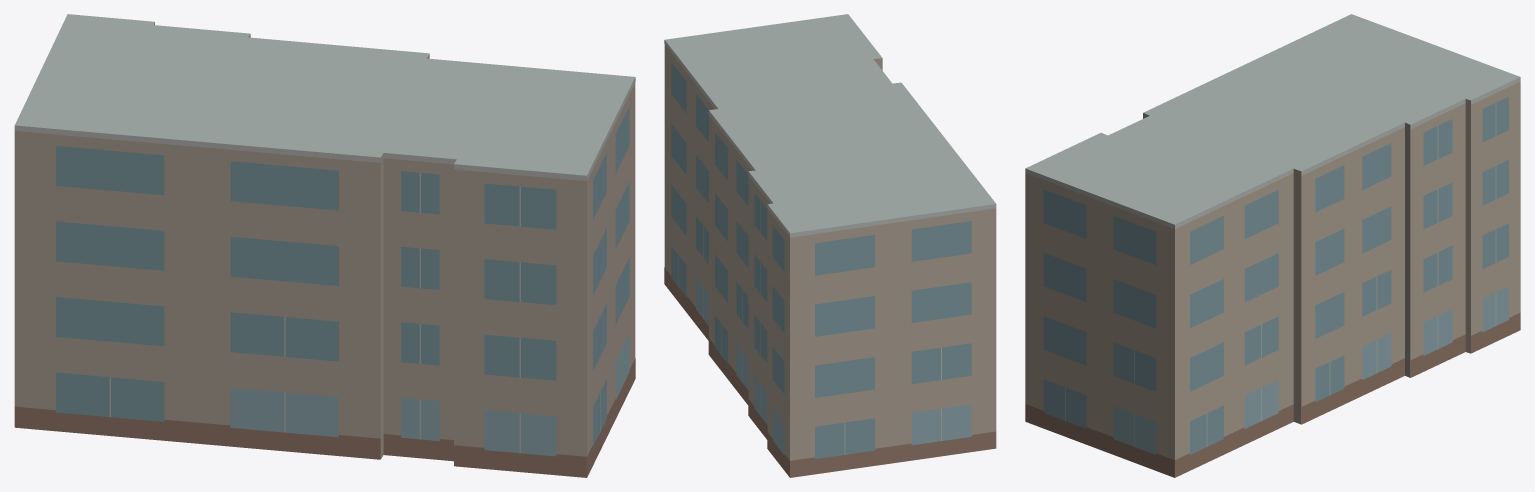
Rendered from survey-upis-32533113.glb.
3 renders of one model, left to right at view 1: azimuth 30°, elevation 25°; view 2: azimuth 150°, elevation 25°; view 3: azimuth 270°, elevation 25°, orthographic. The views are drawn at different scales.
Visible parts, largest first — view 1: survey-upis-32533113.tmp; view 2: survey-upis-32533113.tmp; view 3: survey-upis-32533113.tmp.
Part boxes in pixels (<box>): survey-upis-32533113.tmp: <box>14,14,635,477</box>; survey-upis-32533113.tmp: <box>664,14,996,477</box>; survey-upis-32533113.tmp: <box>1025,14,1520,477</box>.
Bounding box in the file's own units: 24.43 × 13.68 × 24.26.
